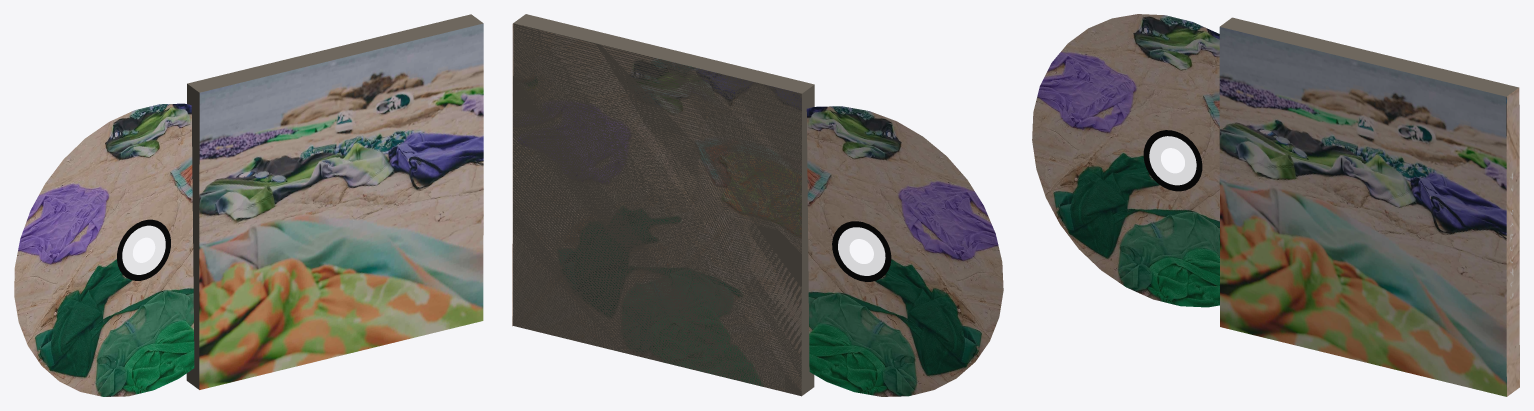
3 renders of one model, left to right at view 1: azimuth 30°, elevation 25°; view 2: azimuth 150°, elevation 25°; view 3: azimuth 330°, elevation 25°, orthographic.
Parts seen in each view (by area): view 1: Plane.004, Circle, Plane, Circle.003, Circle.001; view 2: Plane, Circle, Plane.002, Circle.003, Circle.001; view 3: Plane.004, Circle, Plane.001, Plane, Circle.003, Circle.001.
Part boxes in pixels (bbox=[...]): Plane.004: bbox=[199, 23, 483, 389]; Circle: bbox=[14, 103, 194, 396]; Plane: bbox=[186, 14, 483, 389]; Circle.003: bbox=[122, 226, 165, 274]; Circle.001: bbox=[117, 219, 170, 280]; Plane: bbox=[512, 14, 814, 396]; Circle: bbox=[806, 106, 1003, 396]; Plane.002: bbox=[513, 24, 801, 391]; Circle.003: bbox=[838, 227, 884, 275]; Circle.001: bbox=[832, 221, 891, 281]; Plane.004: bbox=[1219, 27, 1506, 396]; Circle: bbox=[1032, 14, 1219, 307]; Plane.001: bbox=[1506, 87, 1519, 396]; Plane: bbox=[1220, 17, 1518, 96]; Circle.003: bbox=[1149, 136, 1196, 184]; Circle.001: bbox=[1143, 130, 1202, 191].
Size of the model in its own units: 5.6 by 3.39 by 0.2819.
7 materials, 4 textured.
